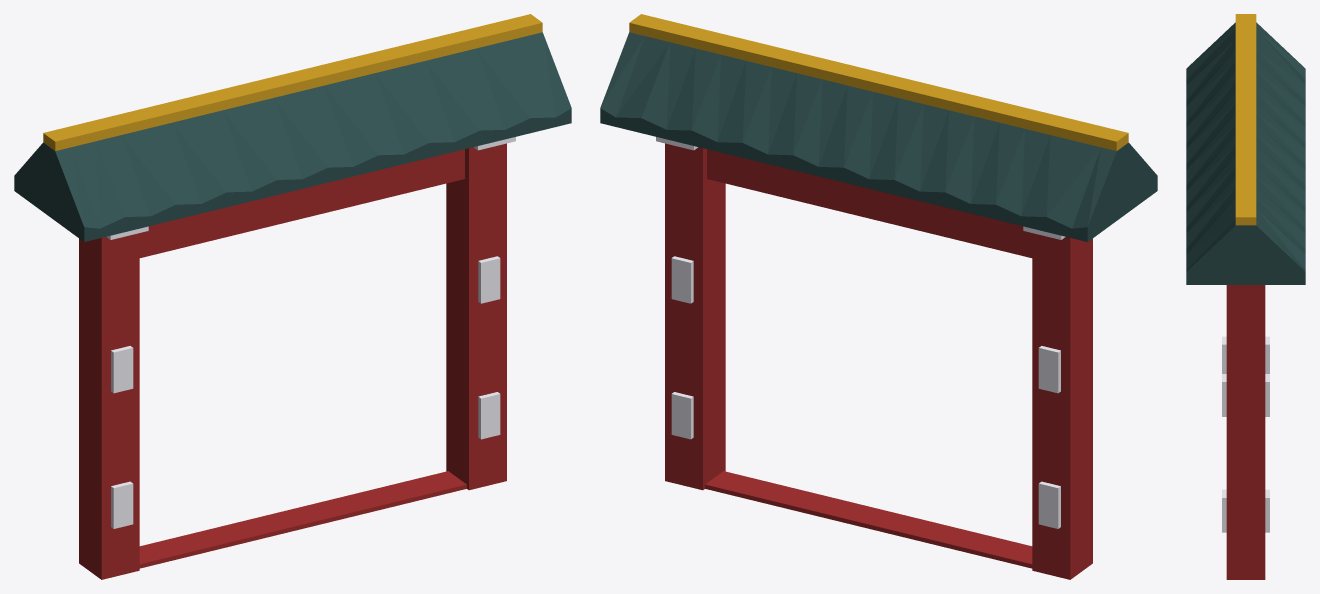
File: Asian_Prop_Building_Fence_Wall_Gateway_04.FBX
3 views of the same model, side by side, from view 1: azimuth 30°, elevation 25°; view 2: azimuth 150°, elevation 25°; view 3: azimuth 270°, elevation 25° (orthographic). The views are drawn at different scales.
Parts seen in each view (by area): view 1: Asian_Prop_Building_Fence_Wall_Gateway_04; view 2: Asian_Prop_Building_Fence_Wall_Gateway_04; view 3: Asian_Prop_Building_Fence_Wall_Gateway_04.
Part boxes in pixels (x1=…): Asian_Prop_Building_Fence_Wall_Gateway_04: x1=14, y1=14, x2=571, y2=579; Asian_Prop_Building_Fence_Wall_Gateway_04: x1=600, y1=14, x2=1157, y2=579; Asian_Prop_Building_Fence_Wall_Gateway_04: x1=1186, y1=14, x2=1305, y2=579.
Bounding box in the file's own units: 6215 × 5413 × 1546.
